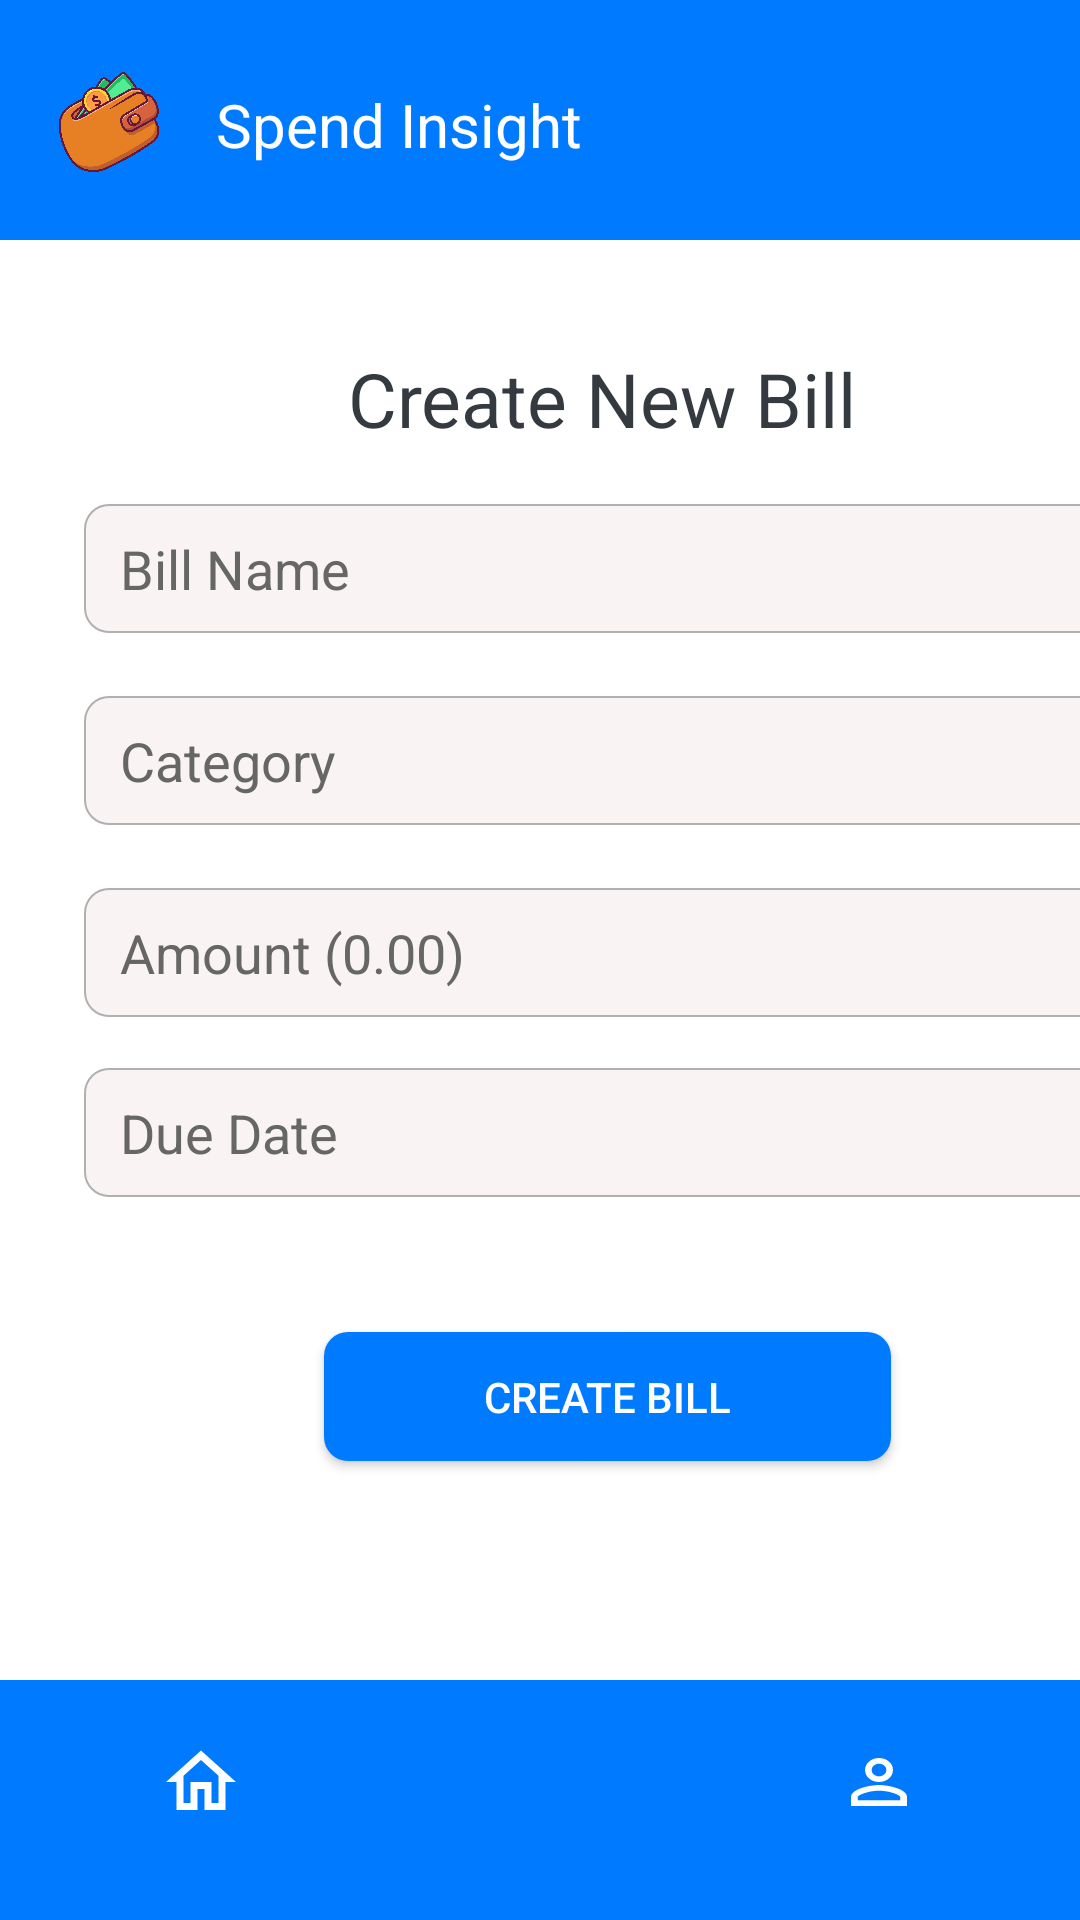

Screen size 1080×1920. Icon name, then its box in pixels as [x1, y1, x2, y2]:
home: [166, 1750, 236, 1810]
person: [851, 1758, 907, 1806]
